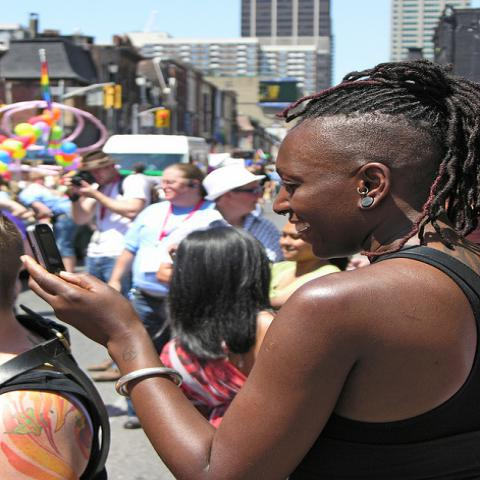truck: (103, 134, 208, 180)
